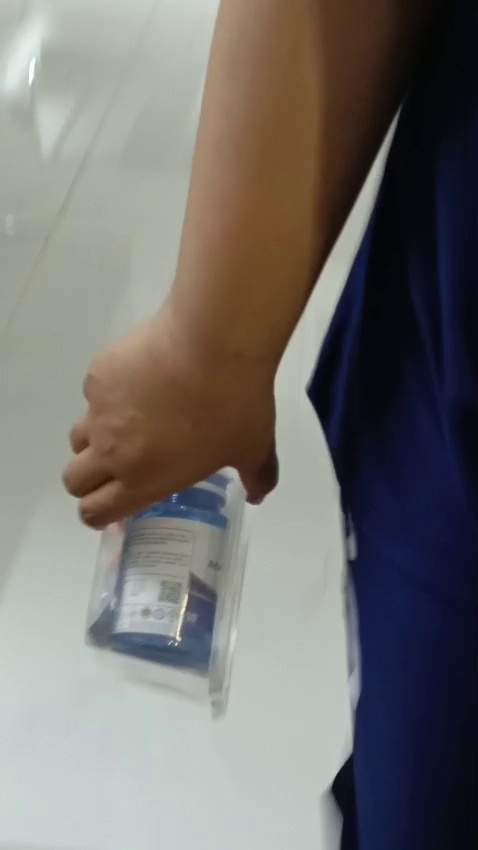medicine box: (43, 475, 285, 726)
